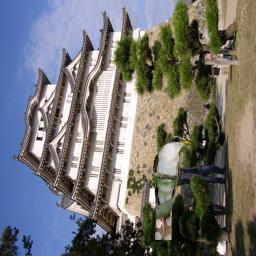Cuckoo: (152, 135, 194, 240)
